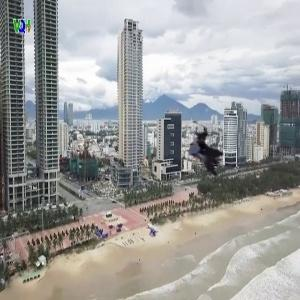drone: (182, 123, 246, 187)
